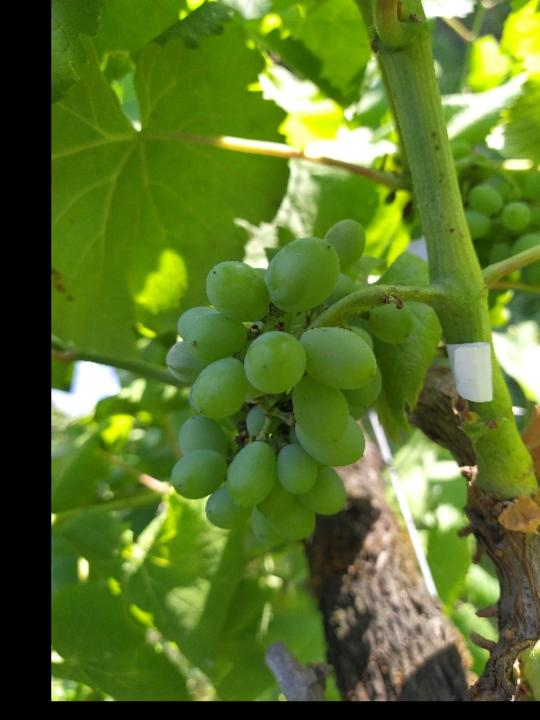grape: (161, 218, 418, 554)
